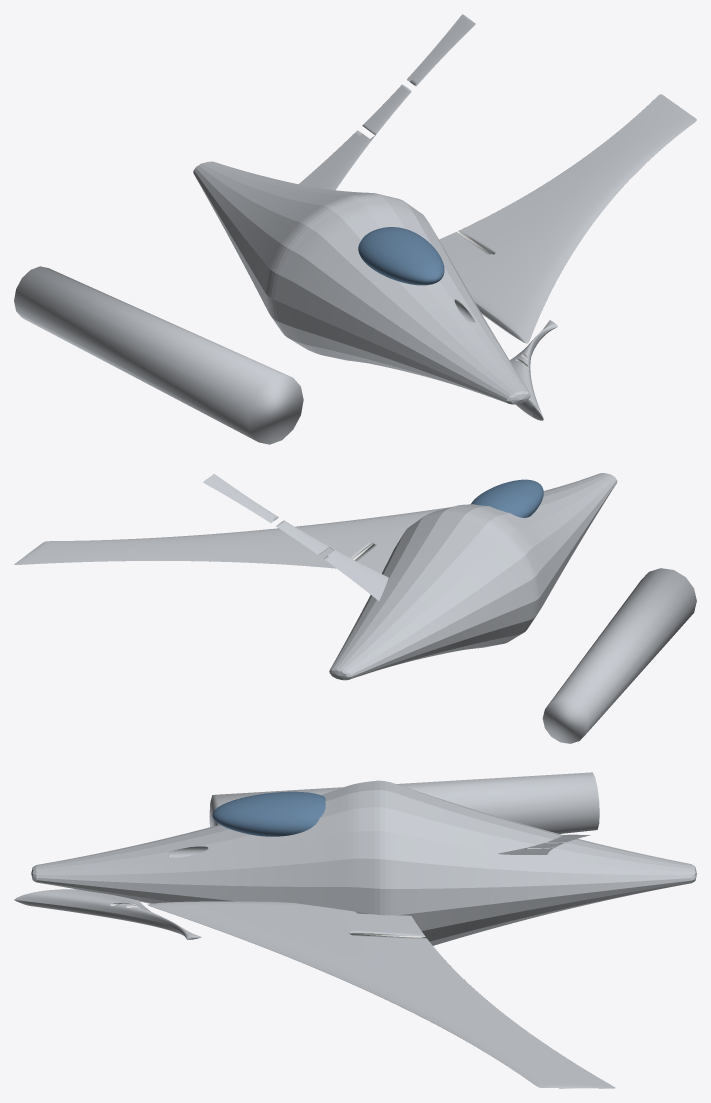
3 views of the same model, one above another, from view 1: azimuth 30°, elevation 25°; view 2: azimuth 150°, elevation 25°; view 3: azimuth 270°, elevation 25° (orthographic). The views are drawn at different scales.
Visible parts, largest first — view 1: assembly_01_Body, assembly_06_EnginePod0, assembly_02_WingMain, assembly_04_Tail, assembly_05_Canopy, assembly_03_WingSub; view 2: assembly_01_Body, assembly_02_WingMain, assembly_06_EnginePod0, assembly_04_Tail, assembly_05_Canopy; view 3: assembly_01_Body, assembly_02_WingMain, assembly_06_EnginePod0, assembly_05_Canopy, assembly_03_WingSub, assembly_04_Tail.
Boxes of the visible parts, x1,y1,x2,y2 form: assembly_01_Body: [193, 161, 530, 404]; assembly_06_EnginePod0: [14, 266, 303, 444]; assembly_02_WingMain: [439, 94, 696, 343]; assembly_04_Tail: [298, 14, 475, 190]; assembly_05_Canopy: [358, 227, 444, 285]; assembly_03_WingSub: [510, 320, 557, 420]; assembly_01_Body: [329, 473, 617, 680]; assembly_02_WingMain: [14, 507, 449, 573]; assembly_06_EnginePod0: [542, 568, 696, 743]; assembly_04_Tail: [203, 474, 388, 600]; assembly_05_Canopy: [471, 479, 543, 517]; assembly_01_Body: [31, 780, 696, 945]; assembly_02_WingMain: [147, 901, 615, 1088]; assembly_06_EnginePod0: [209, 772, 599, 833]; assembly_05_Canopy: [212, 791, 325, 836]; assembly_03_WingSub: [14, 889, 201, 939]; assembly_04_Tail: [498, 834, 590, 854].
Size of the model in its own units: 4.38 by 1.34 by 3.74.
